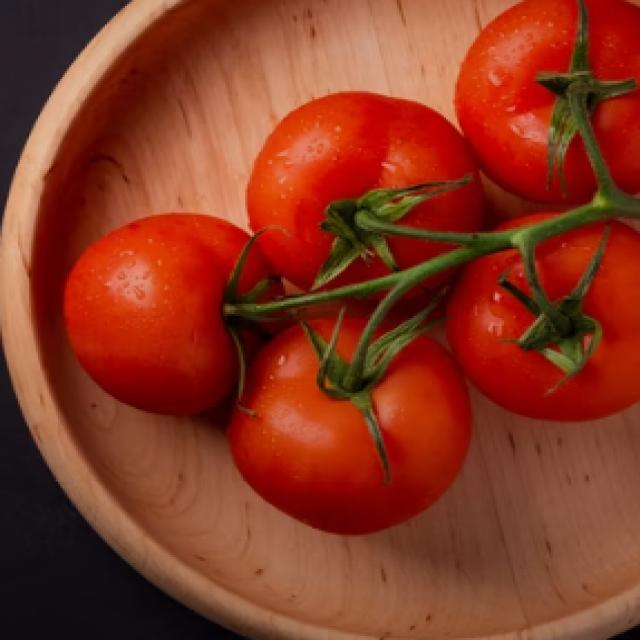Tomato: (50, 198, 302, 428), (238, 324, 468, 537), (242, 84, 474, 282), (447, 15, 640, 205), (451, 236, 640, 402)
